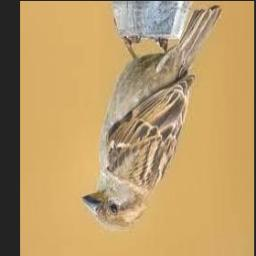Sparrow: (81, 7, 223, 231)
